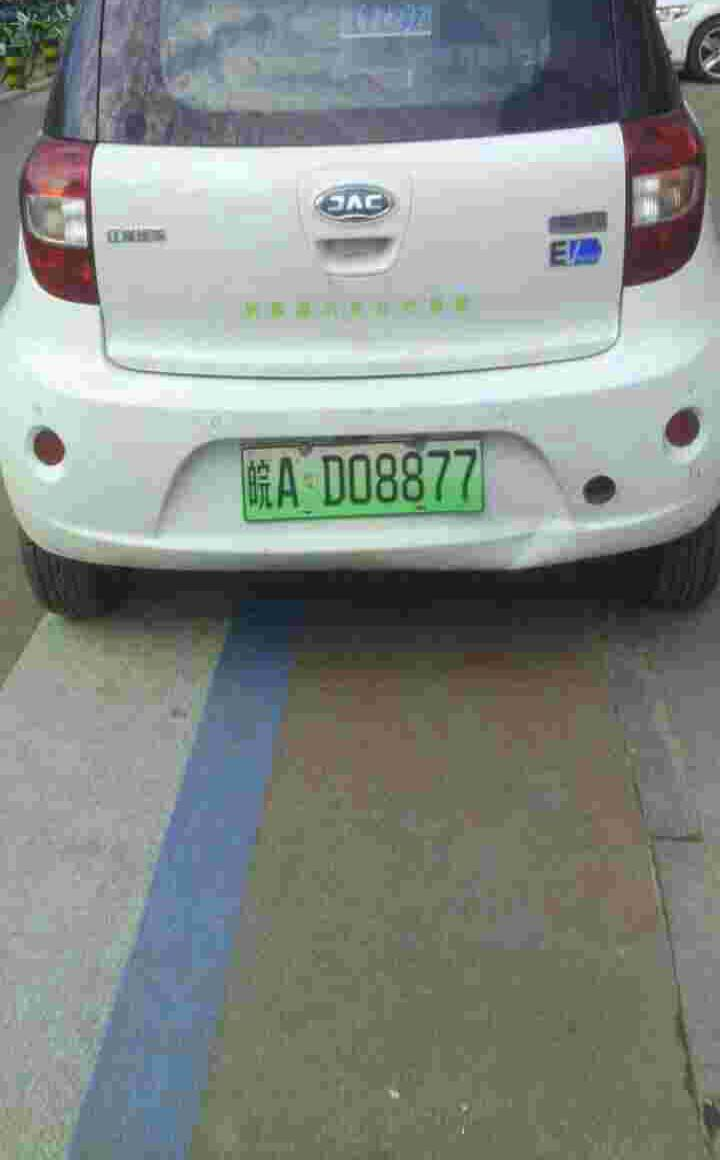car: (242, 441, 489, 526)
